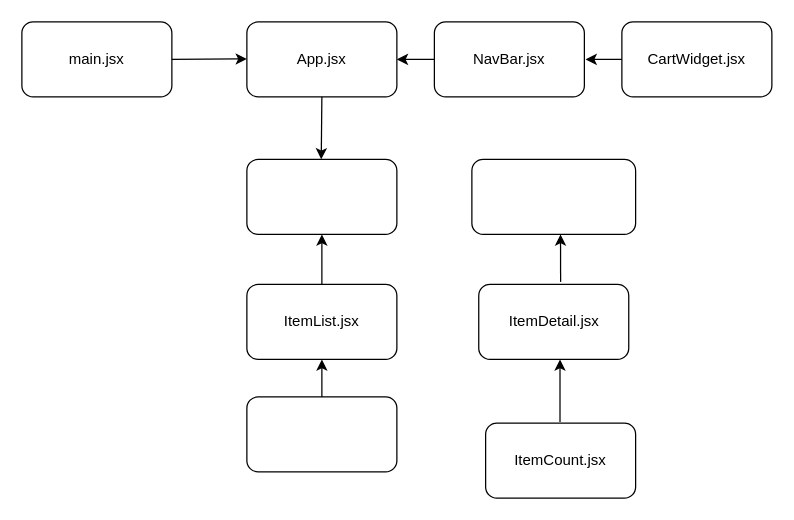
Some shapes in this 794 by 520 pixel diagram are drawn without their labels. Here are the shapes that lost their labels. From the top down, the centre of each, then its label:
At (x=321, y=196): "ItemListContainer.jsx".
At (x=553, y=196): "ItemDetailContainer.jsx".
At (x=321, y=434): "Item.jsx".
